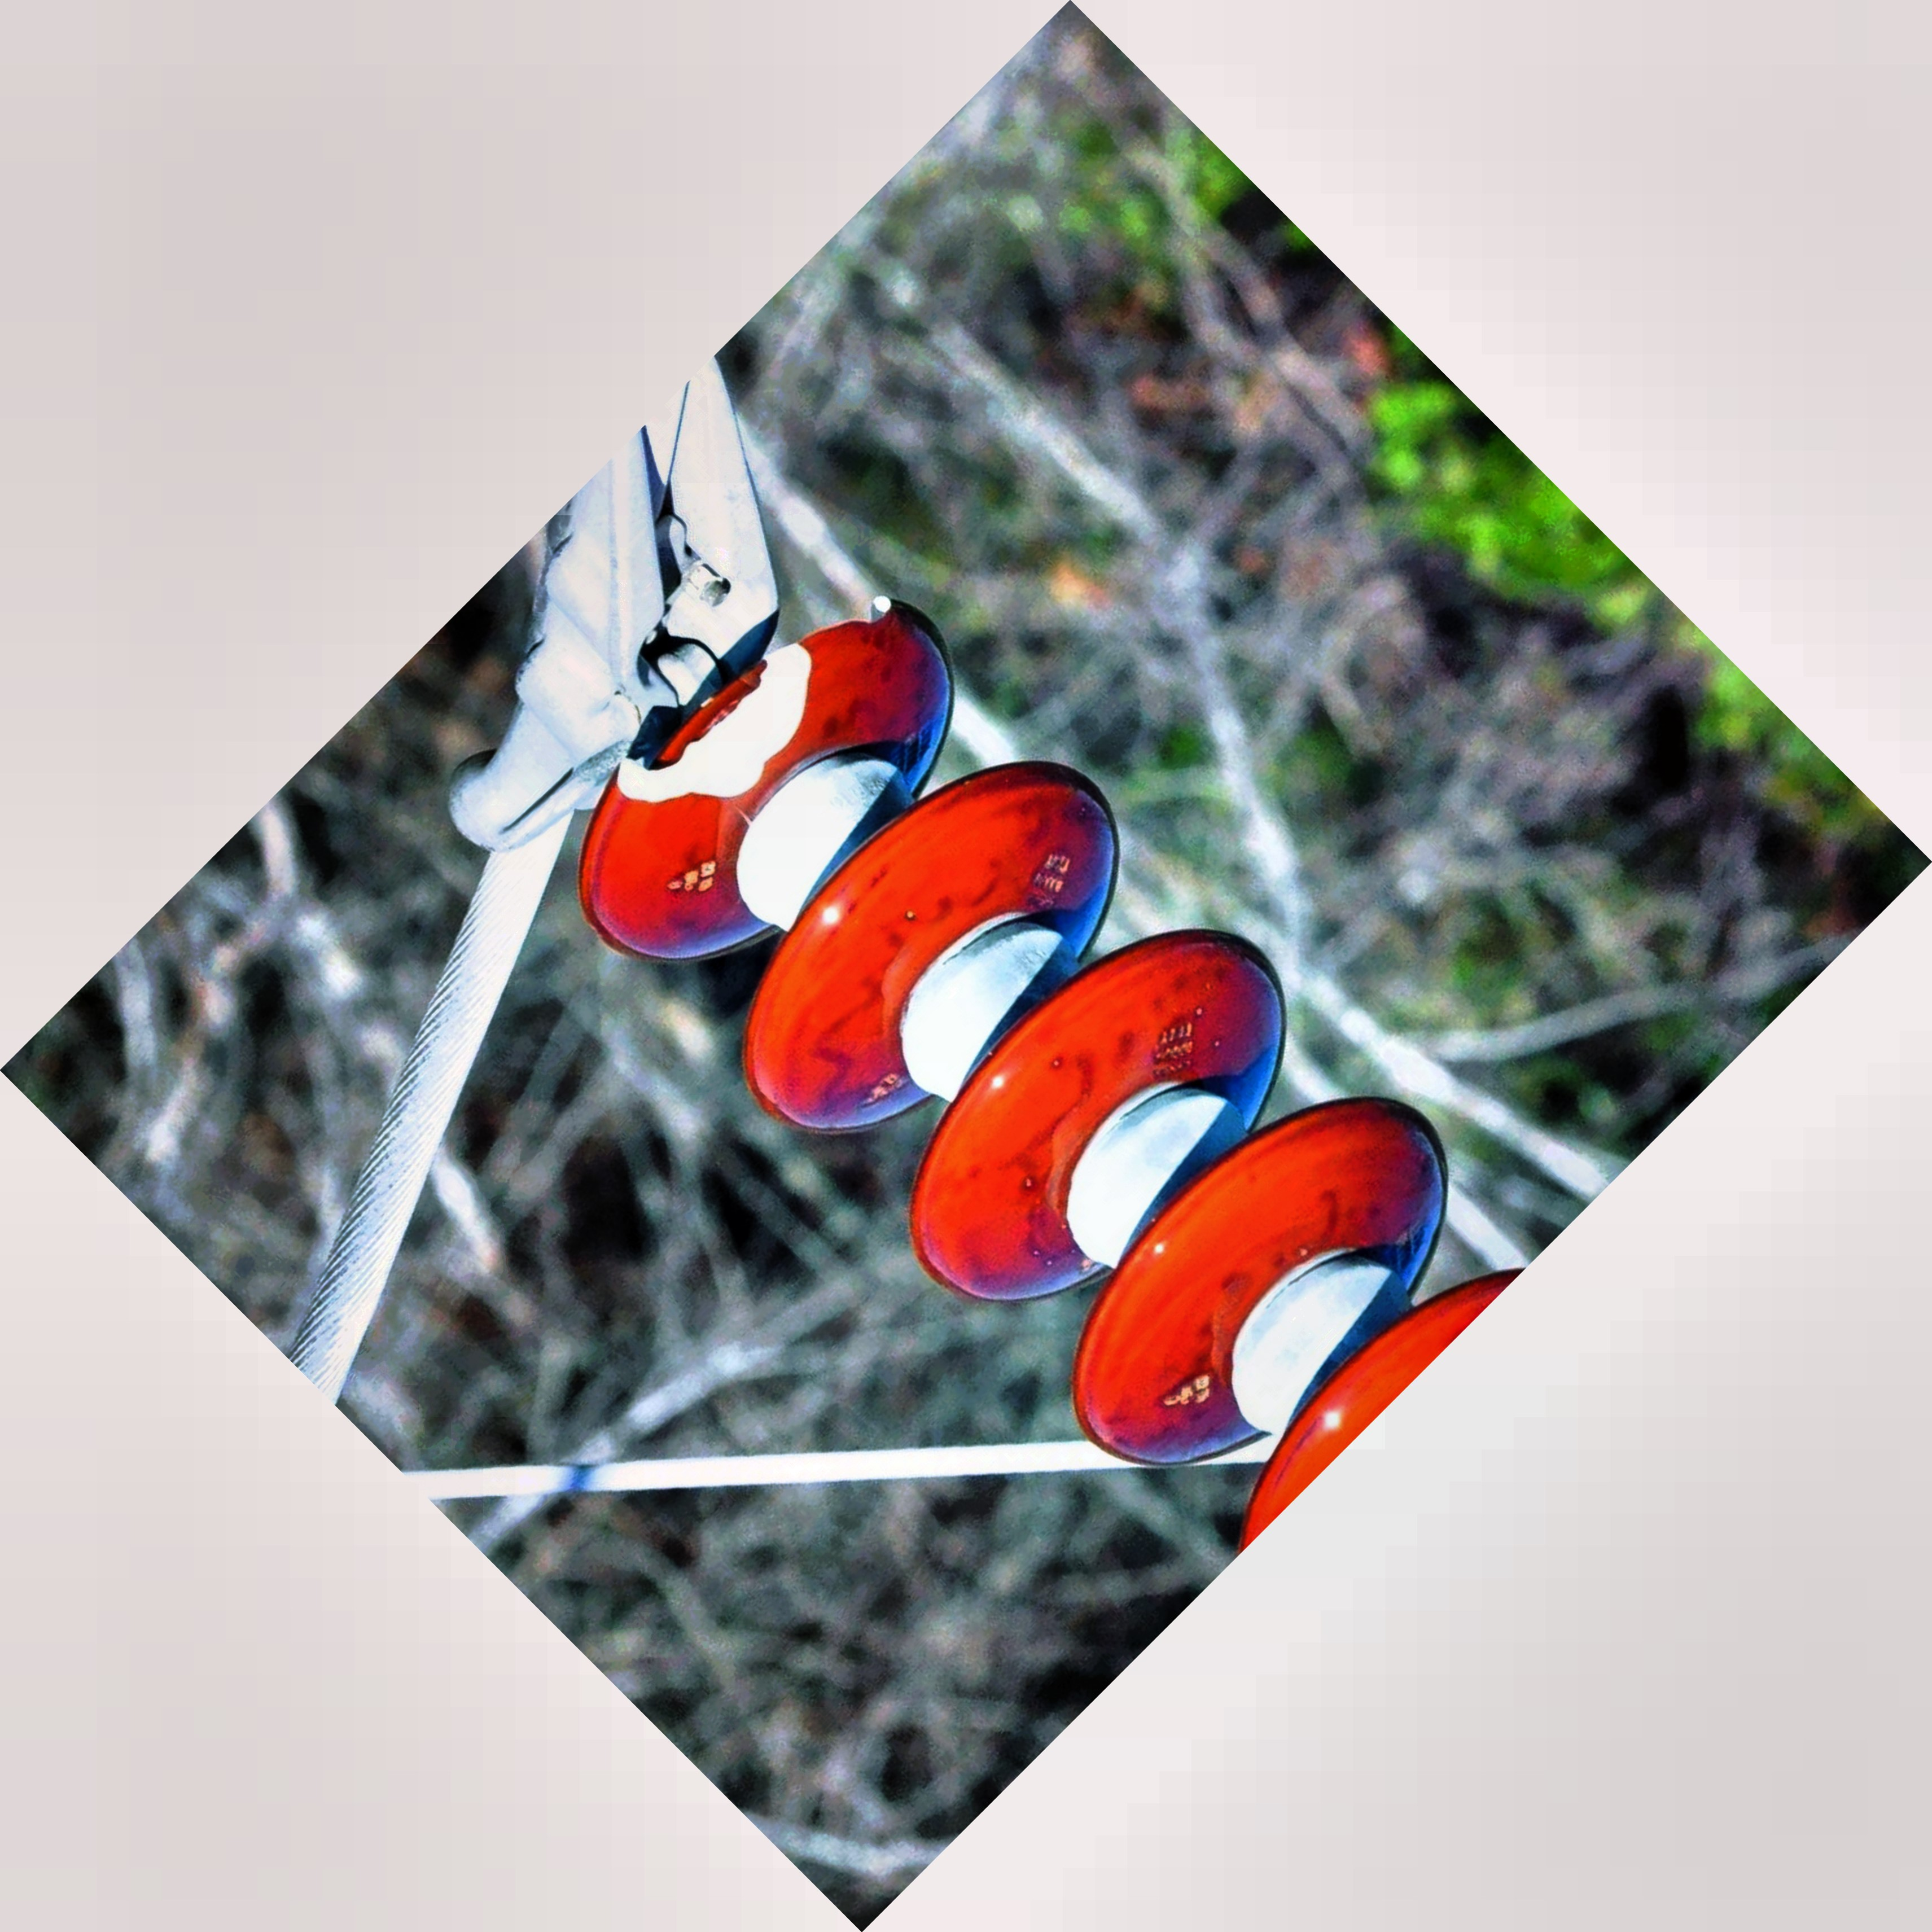insulator breakage: (566, 564, 959, 985)
